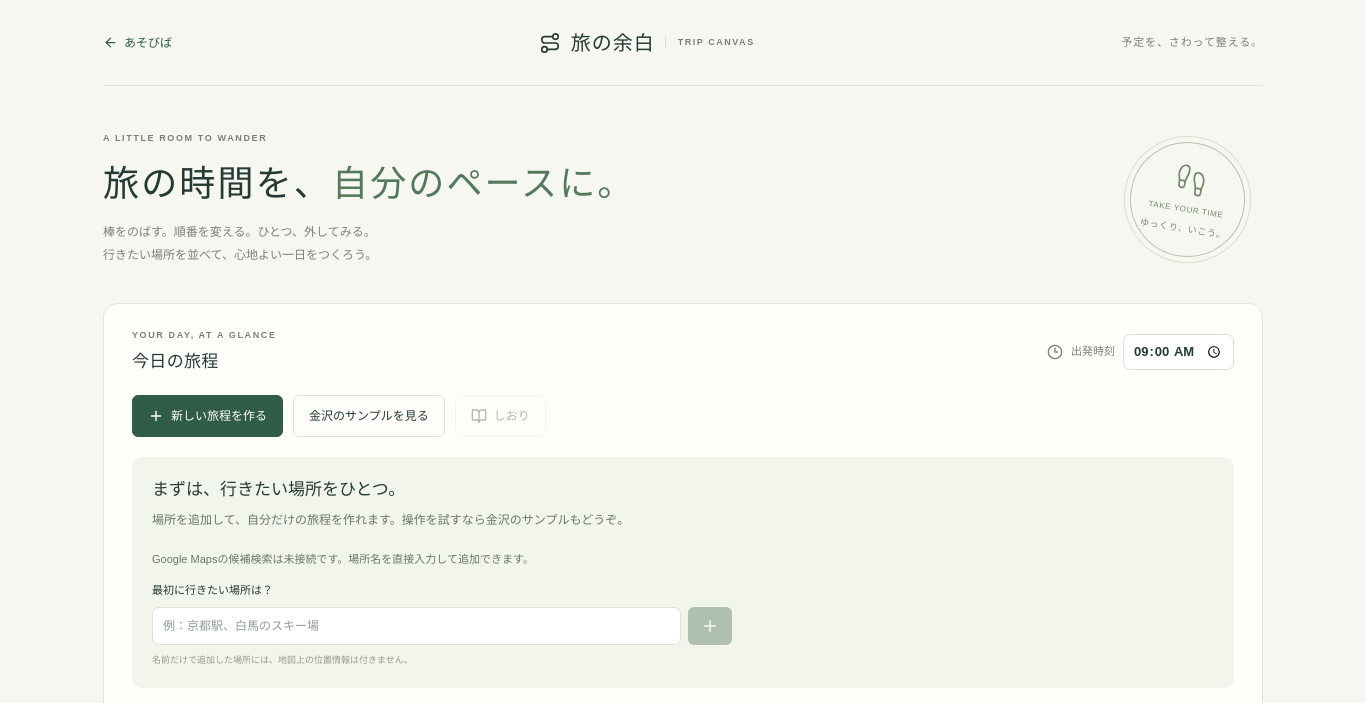
Scenario: TripPlanner › 予定の間から1クリックで移動を追加し、短いボタン操作で時間を変更できる
This screenshot has width=1366, height=703.
Click the button "金沢のサンプルを見る" at coordinates (369, 416), box [293, 395, 445, 437]
(page scrolled)
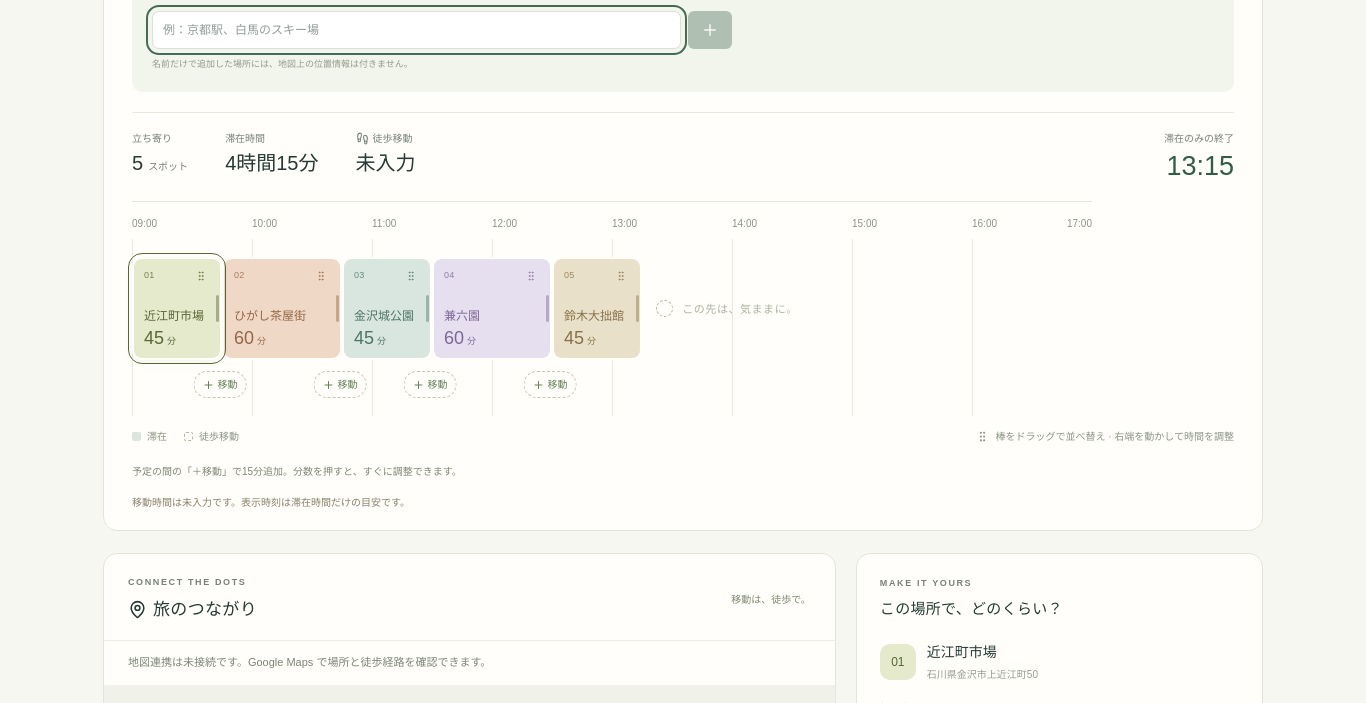
Click the button with aria-label "近江町市場からひがし茶屋街への移動時間を追加" at coordinates (220, 385), box [194, 371, 246, 398]
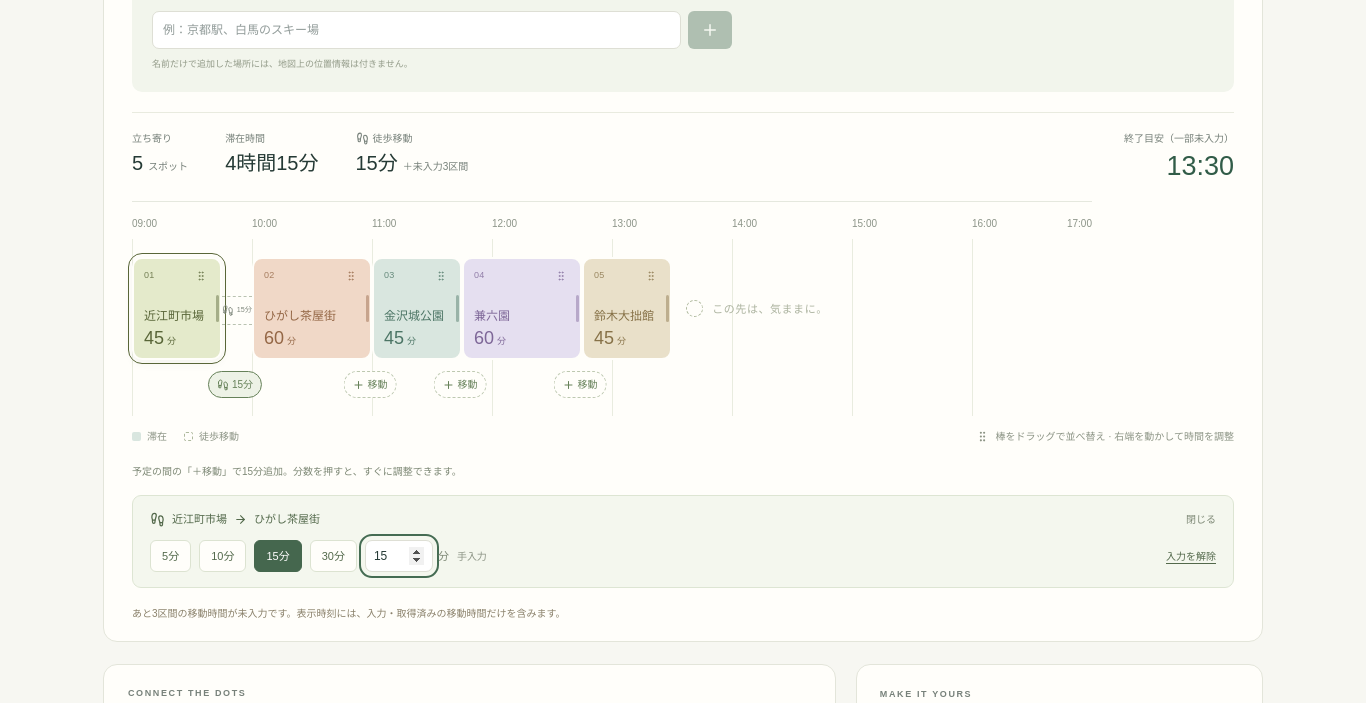
Check: the element with test id "trip-summary" shows "13:30", box [1166, 151, 1234, 181]
Check: the element with test id "trip-summary" shows "未入力3区間", box [132, 112, 1234, 201]
Click the button "30分" at coordinates (333, 556), box [310, 540, 357, 572]
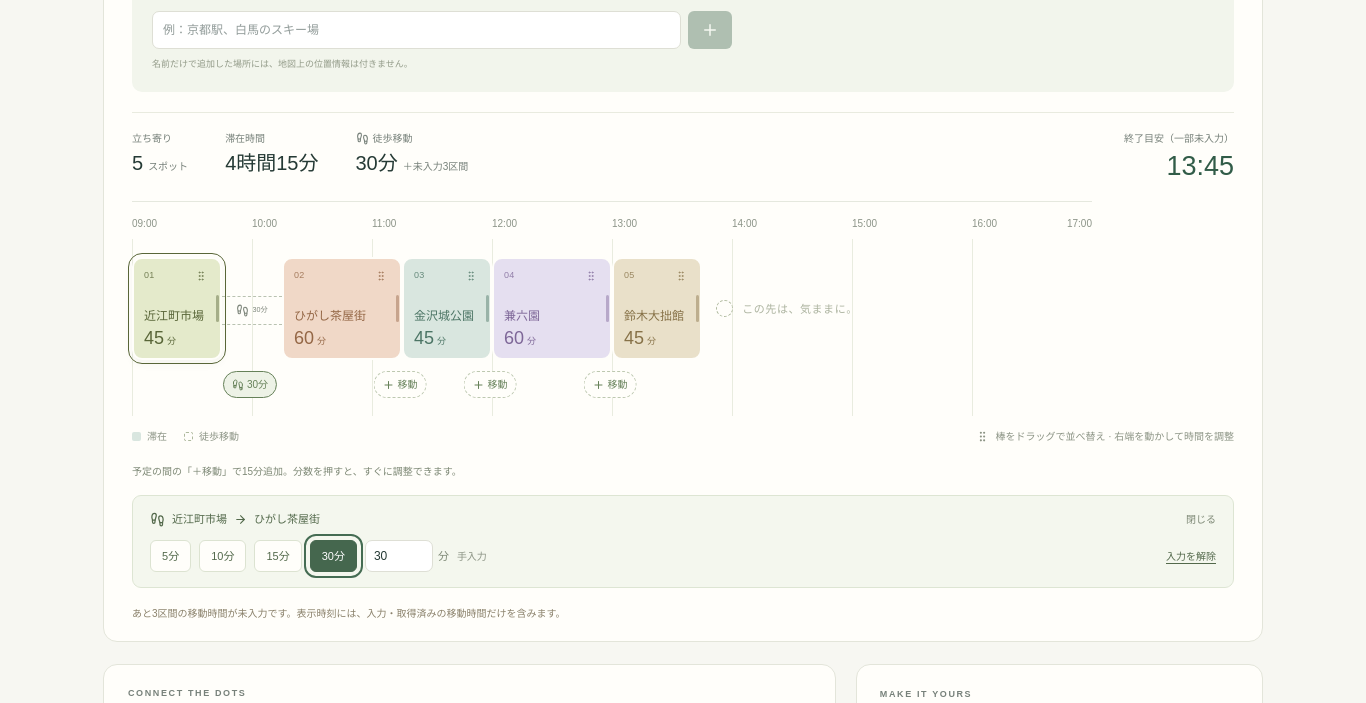
Check: the element with test id "trip-summary" shows "13:45", box [1166, 151, 1234, 181]
Check: the number field named "移動時間（分）" holds "30", box [365, 540, 433, 572]
Click the button "入力を解除" at coordinates (1191, 556), box [1166, 542, 1216, 570]
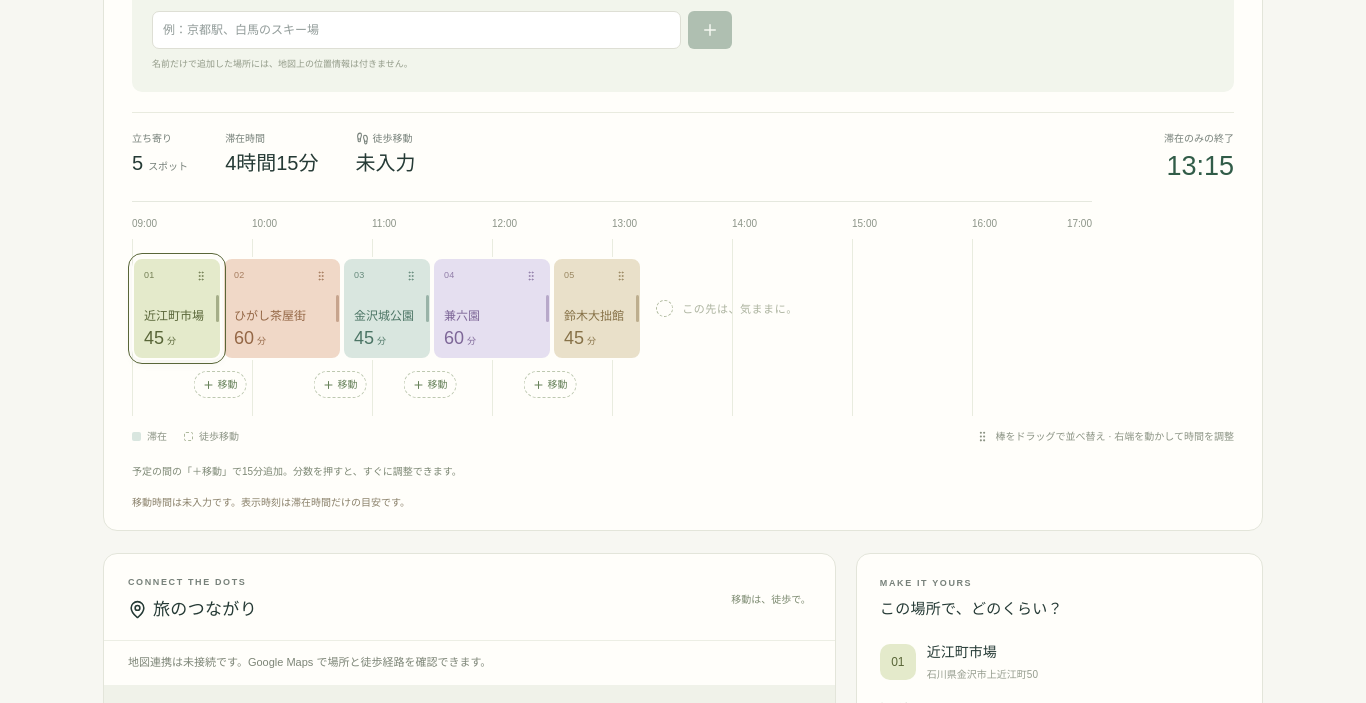
Check: the element with test id "trip-summary" shows "13:15", box [1166, 151, 1234, 181]
Check: the button with aria-label "近江町市場からひがし茶屋街への移動時間を追加" is shown, box [194, 371, 246, 398]
